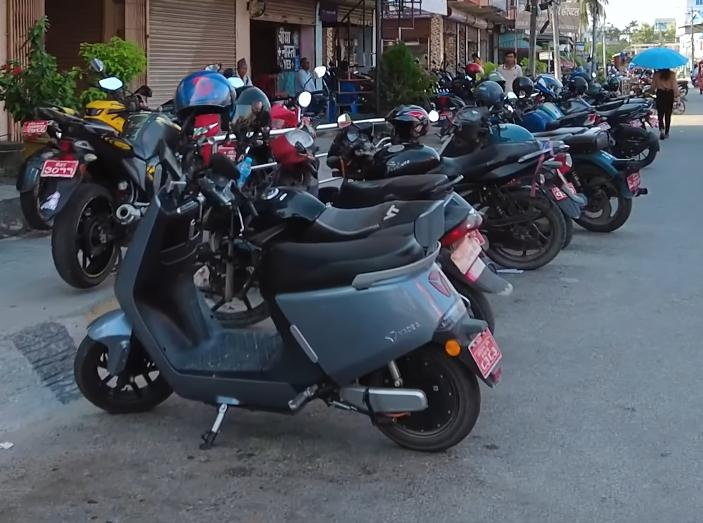scooter: (65, 124, 505, 468)
